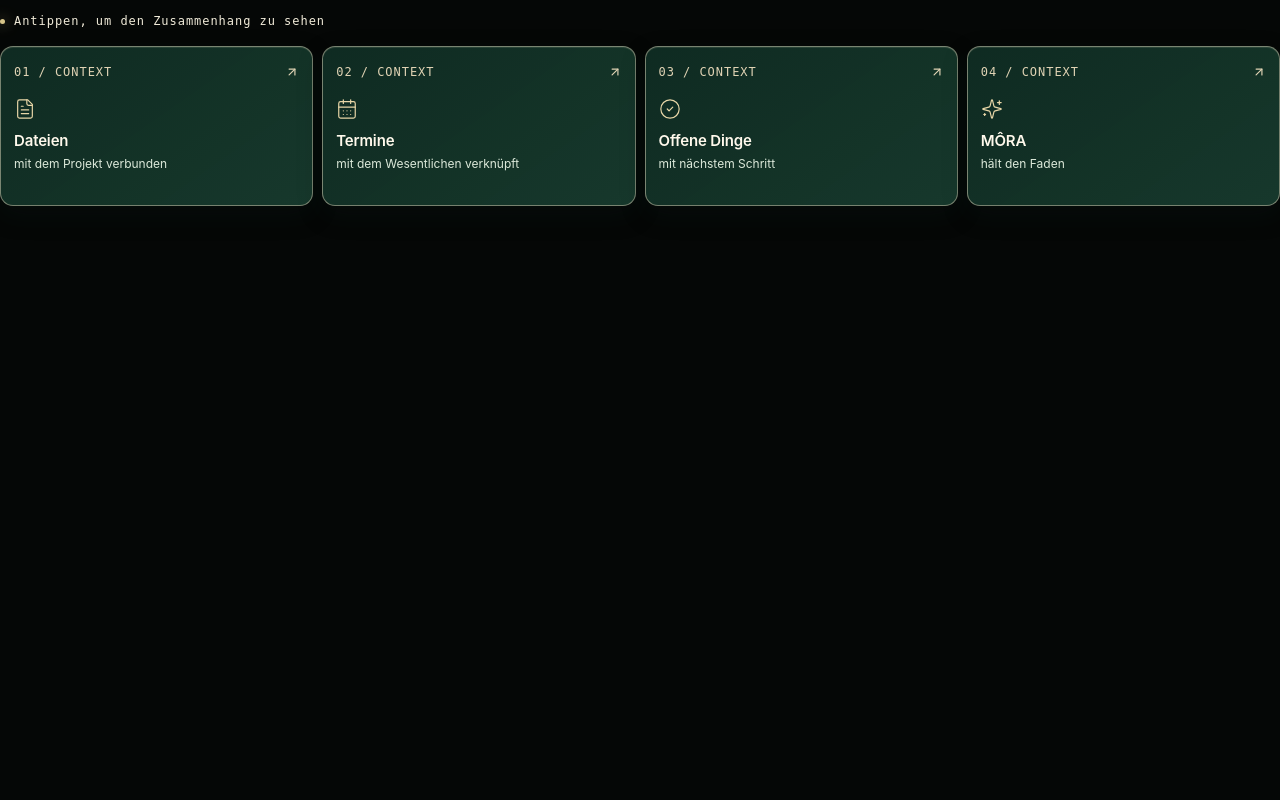
Test: ContextSignals › makes four contextual examples discoverable instead of static marketing bullets
Click the button "01 / CONTEXT Dateien mit dem Projekt verbunden": (71, 72) [0,46,313,206]
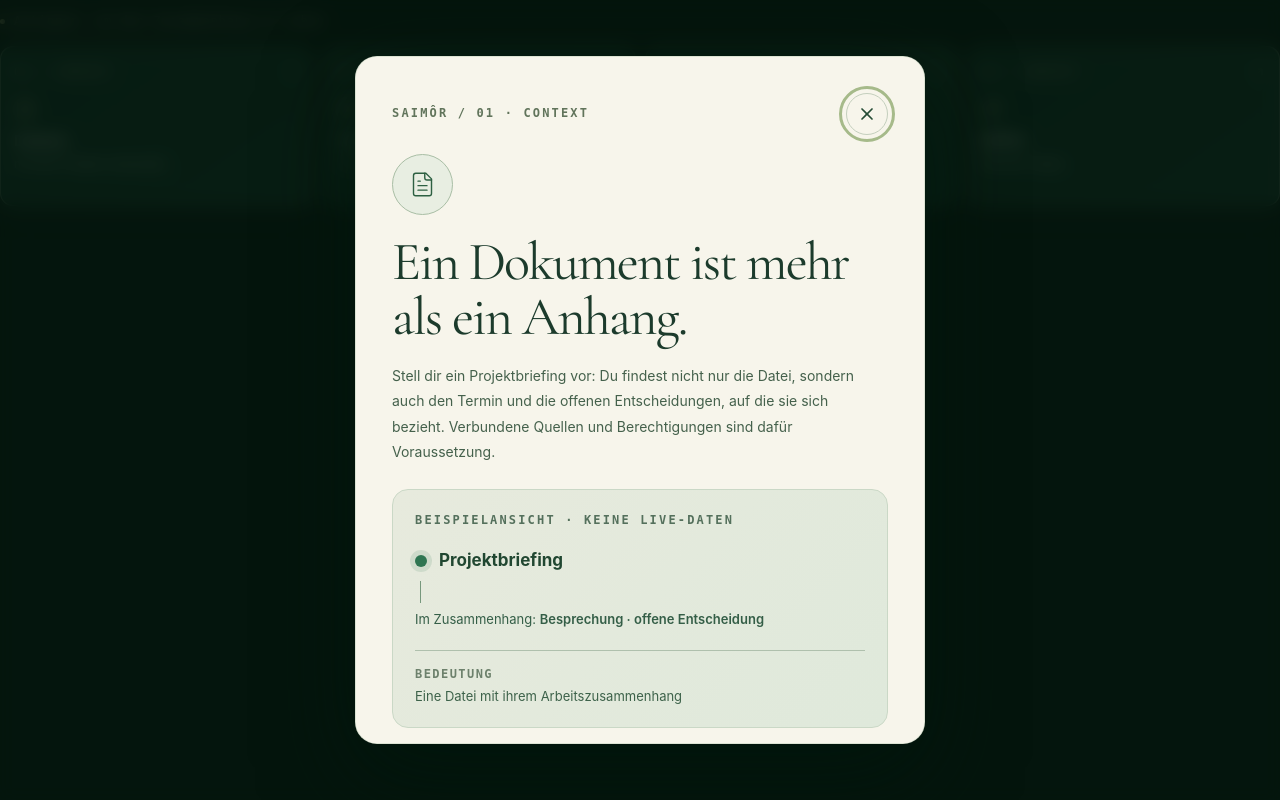
Check: the heading "Ein Dokument ist mehr als ein Anhang." is shown, box [392,234,872,344]
Check: the text "BEISPIELANSICHT · KEINE LIVE-DATEN" is shown, box [415,513,734,527]
Check: the text "Projektbriefing" is shown, box [415,550,563,570]
Click the button named "Schließen": (867, 114) [846,93,888,135]
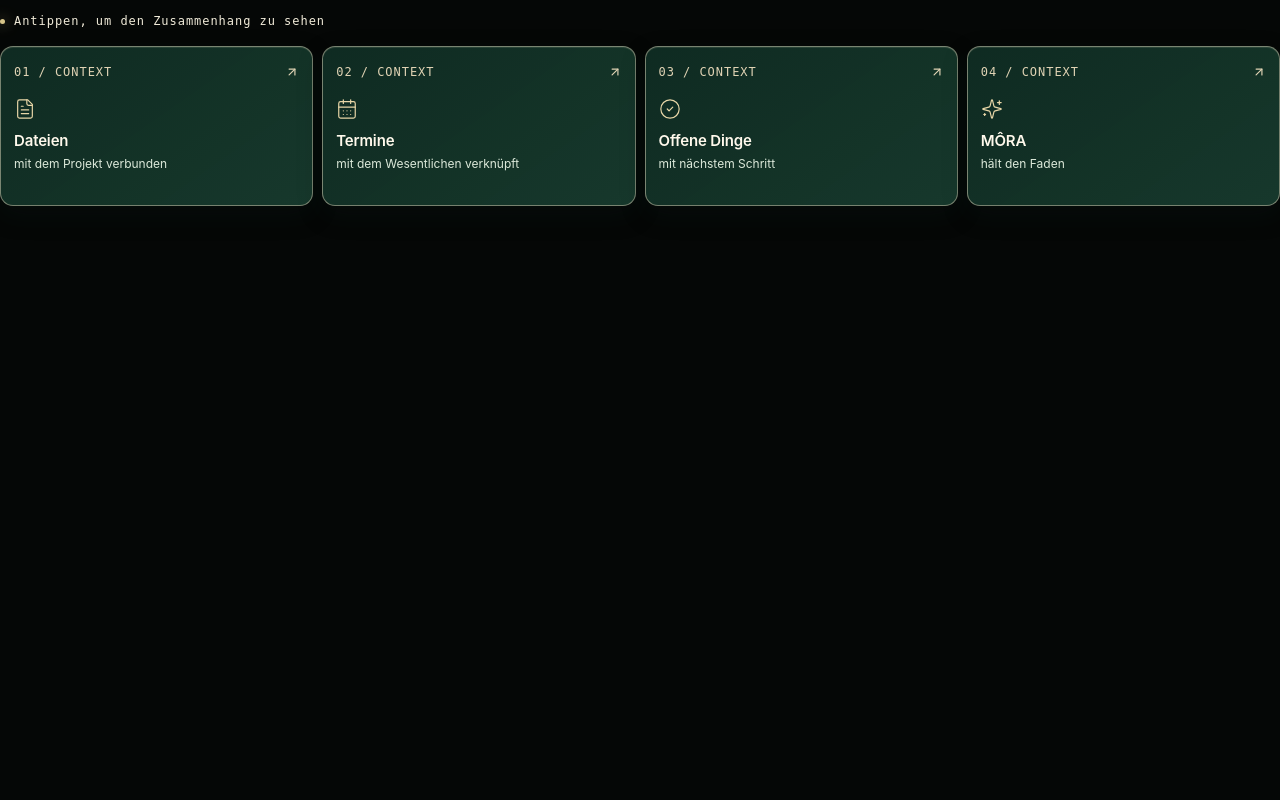
Check: the heading "Ein Dokument ist mehr als ein Anhang." is gone
